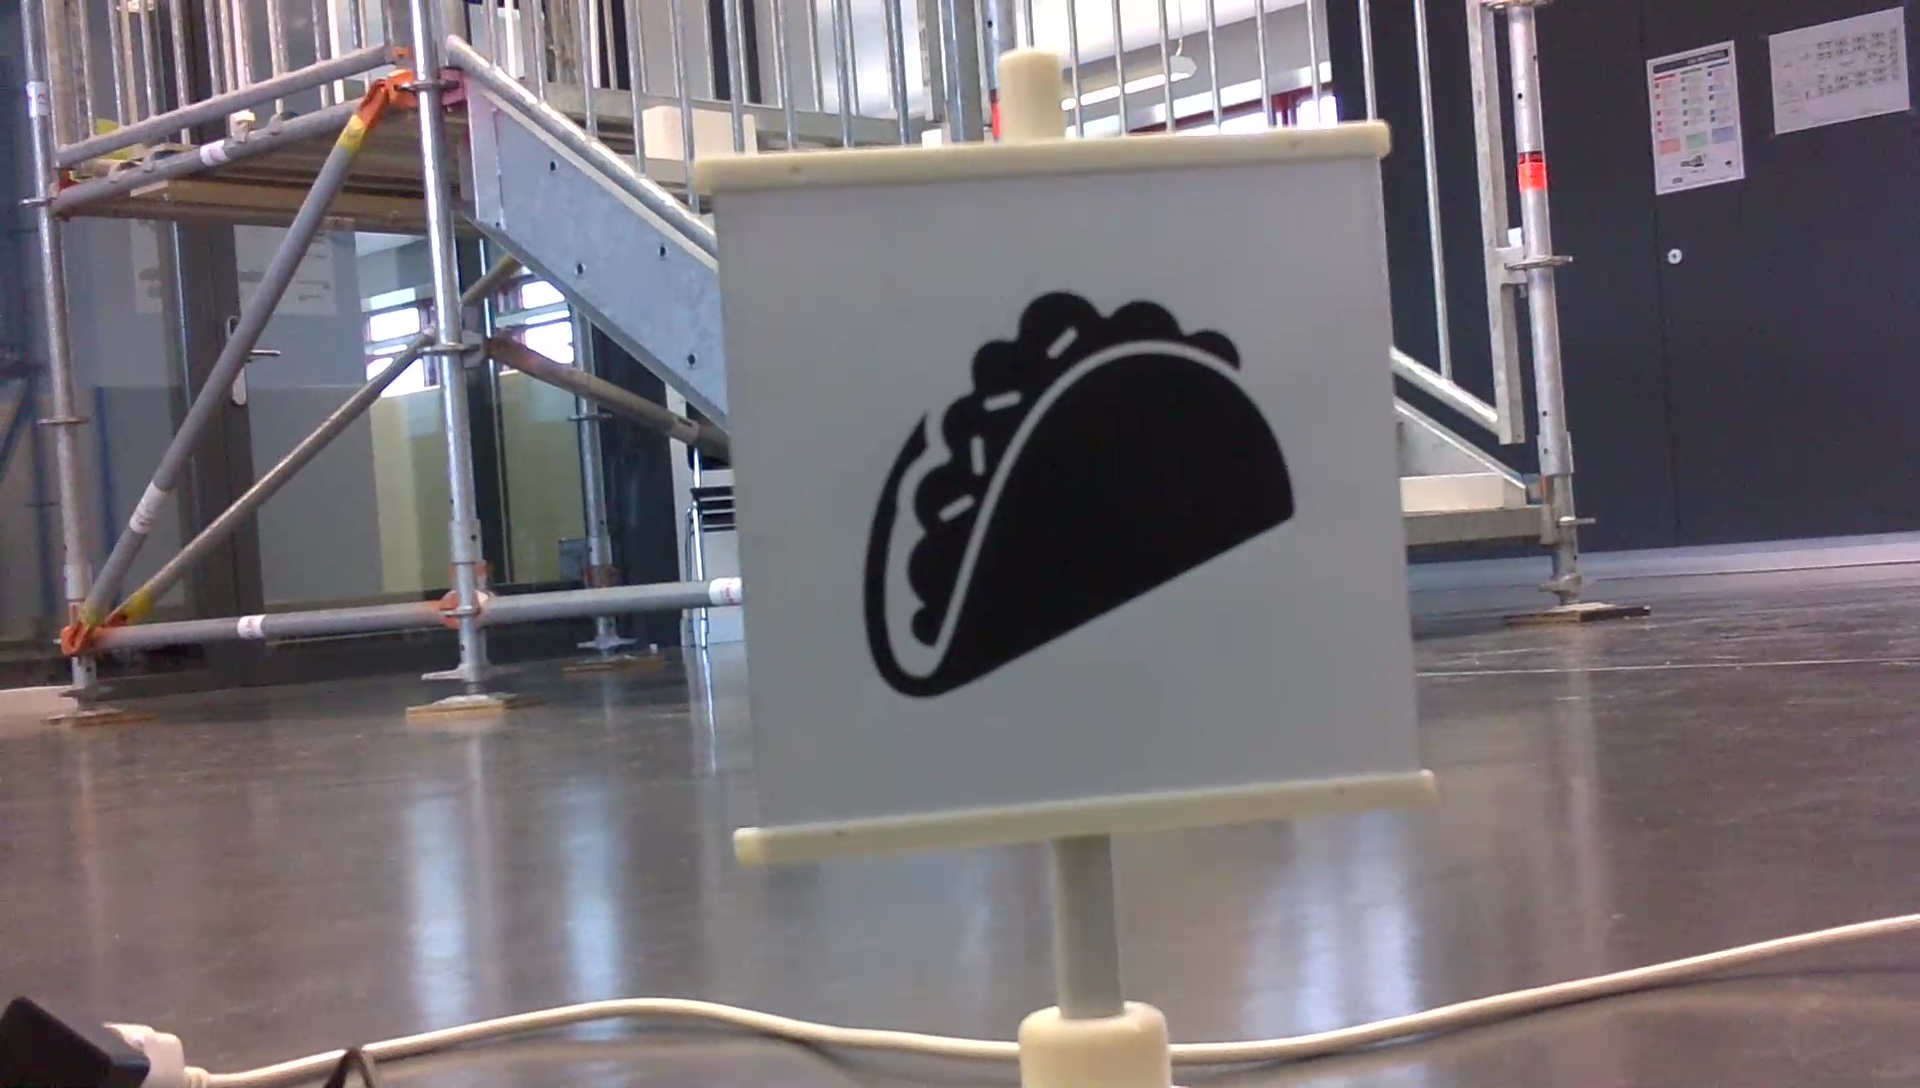brick: (1403, 469, 1505, 510), (3, 683, 76, 715)
taco: (847, 262, 1315, 710)
